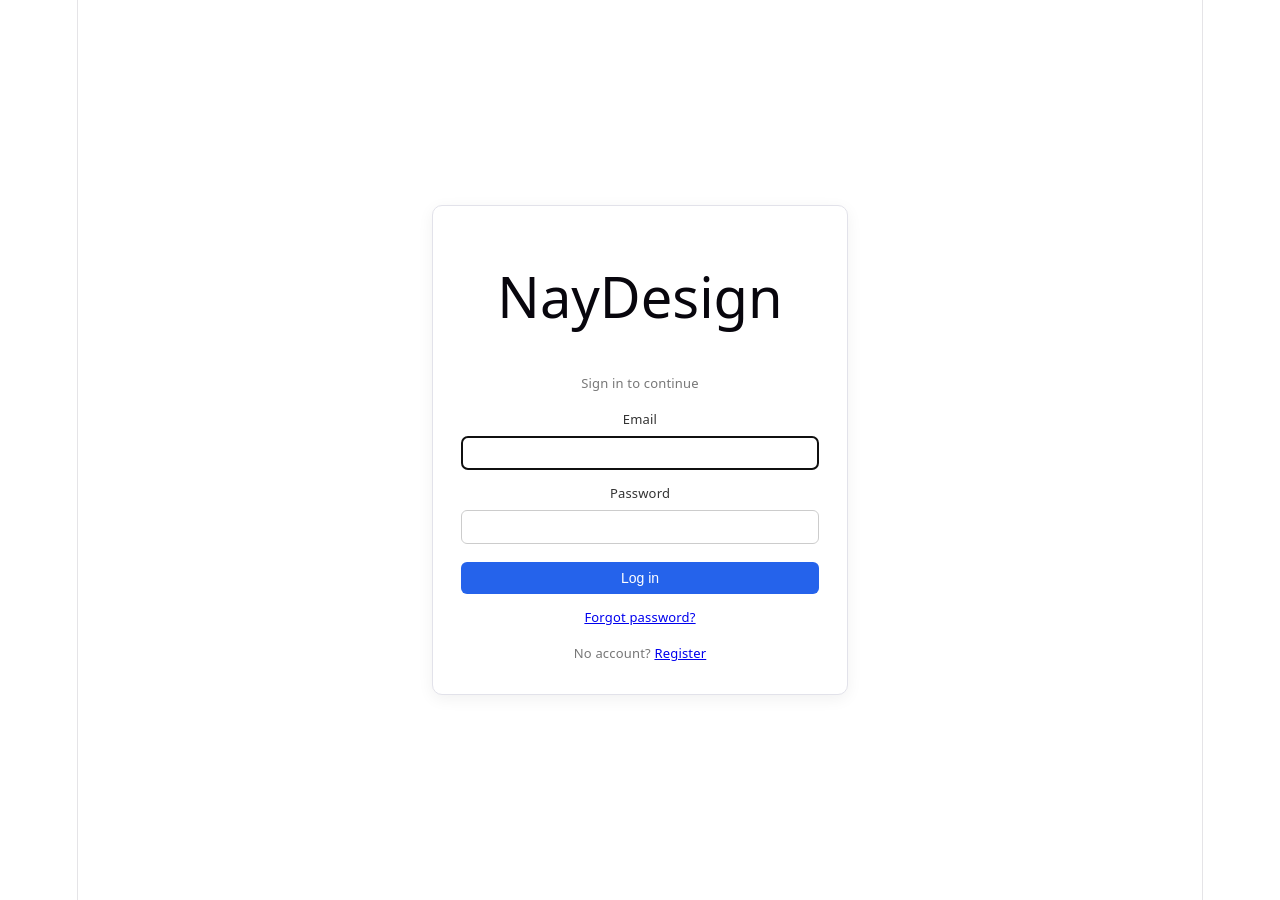
LoginPage › surfaces a generic message on a network failure
Step 1. Type "alice@example.com" into the field labelled "Email" → [640, 453], box [461,436,819,470]
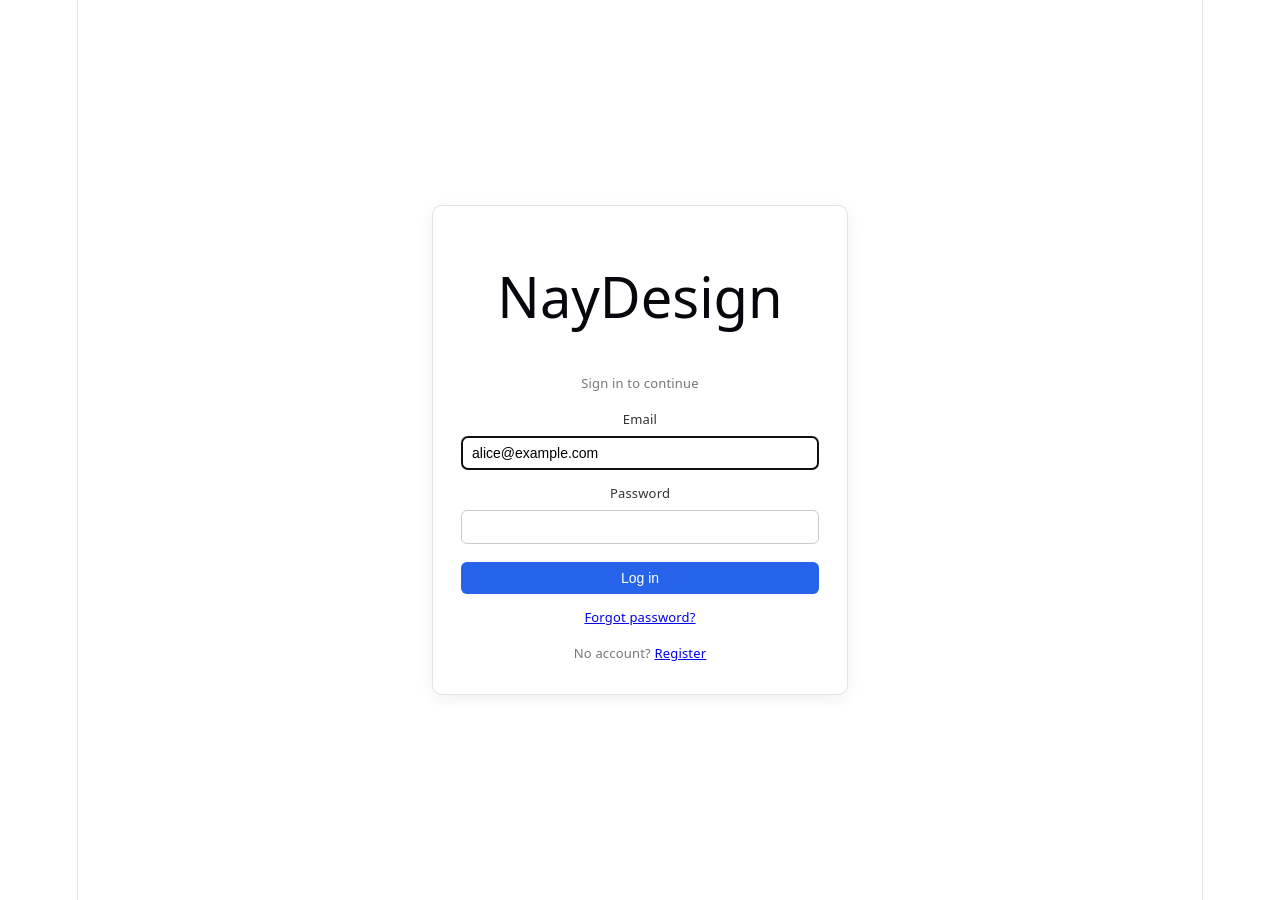
Step 2. Type "hunter22" into the password field labelled "Password" → [640, 527], box [461,510,819,544]
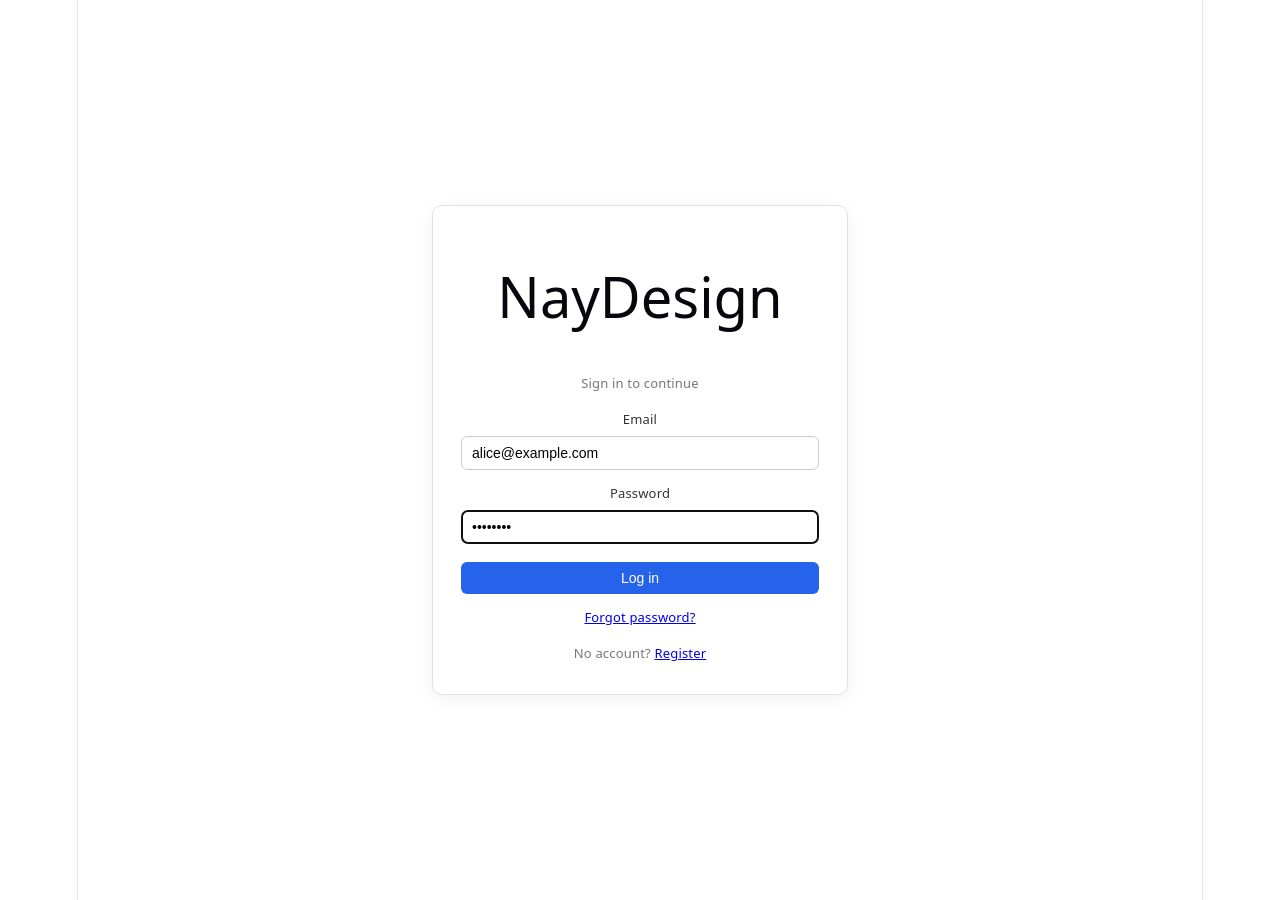
Step 3. Click the button "Log in" → [640, 578], box [461,562,819,594]
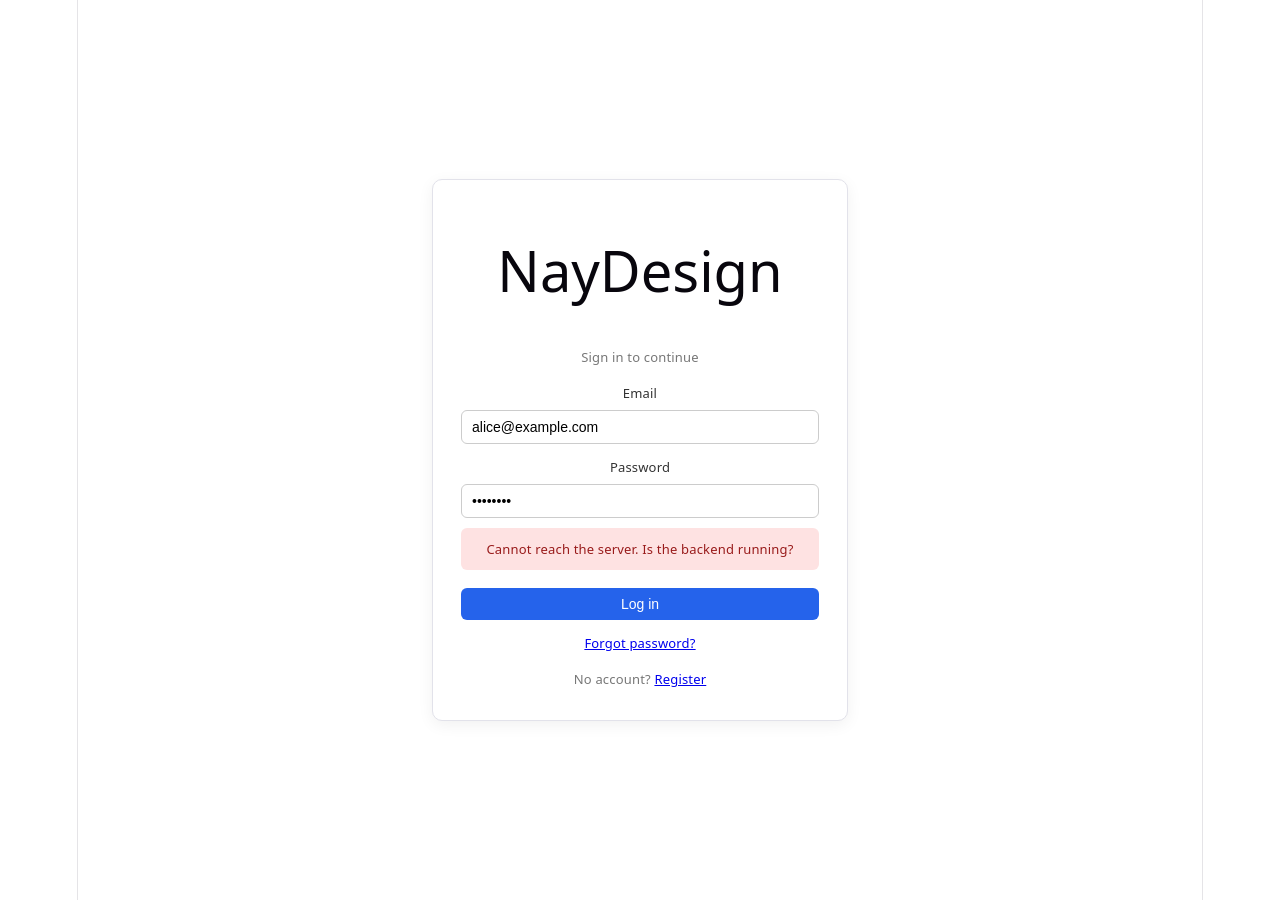
Check: the text "Cannot reach the server. Is the backend running?" is shown, box [461,528,819,570]
